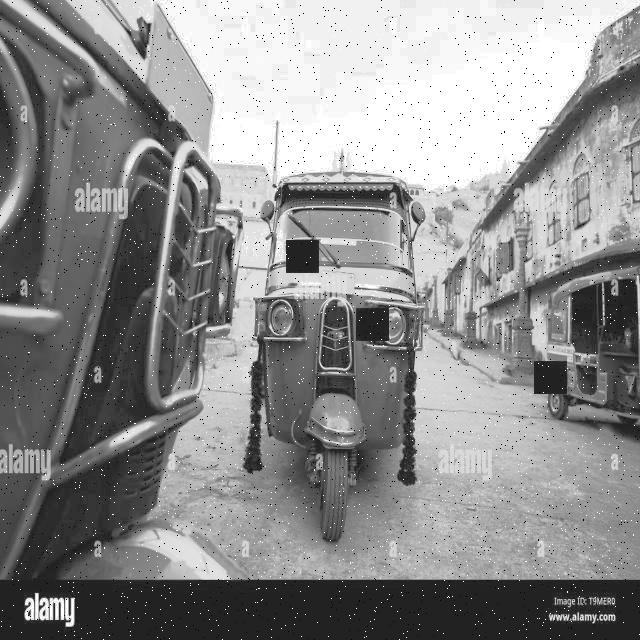Auto-Rickshaw: (257, 150, 430, 556)
